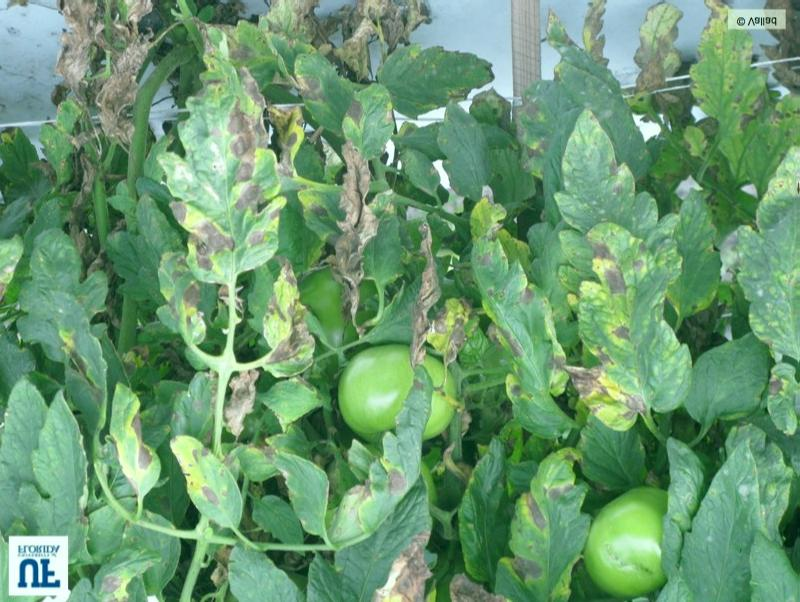Tomato Early blight leaf: (572, 207, 689, 437), (179, 47, 289, 280), (487, 187, 566, 455), (332, 371, 439, 544), (494, 448, 593, 591), (740, 147, 800, 365), (245, 275, 327, 375), (185, 421, 246, 527), (160, 227, 210, 348), (107, 389, 164, 492), (341, 78, 401, 155)
